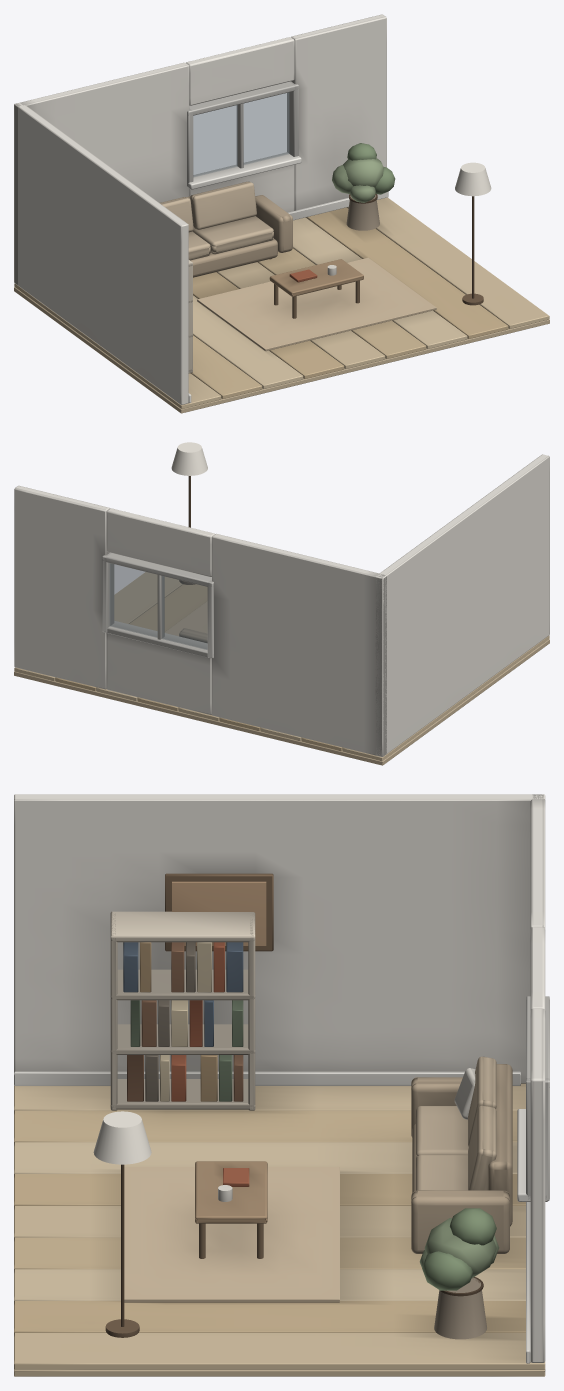
The model's file is room.glb.
3 views of the same model, one above another, from view 1: azimuth 30°, elevation 25°; view 2: azimuth 150°, elevation 25°; view 3: azimuth 270°, elevation 25° (orthographic). The views are drawn at different scales.
Visible parts, largest first — view 1: wl, wb_r, wb_l, rug, board8, board7, glass, wb_t, board2, board6, slab, board4 (+21 smaller); view 2: wb_l, wl, wb_r, wb_b, glass, wb_t, slab, board8, board7, wf_b, wf_t, lamp_shade (+5 smaller); view 3: wl, rug, board8, board7, board1, board2, board6, board0, board5, board4, board3, wb_r (+39 smaller).
Part boxes in pixels (x1,y1,x2,y2): wl: (14, 102, 188, 404); wb_r: (291, 14, 386, 210); wb_l: (14, 62, 189, 284); rug: (197, 257, 436, 351); board8: (347, 197, 549, 328); board7: (306, 207, 508, 338); glass: (193, 92, 289, 177); wb_t: (186, 37, 294, 105); board2: (193, 295, 303, 388); board6: (293, 217, 467, 348); slab: (14, 287, 549, 413); board4: (216, 262, 385, 368); wb_l: (212, 533, 386, 756); wl: (375, 454, 549, 756); wb_r: (14, 485, 109, 689); wb_b: (106, 633, 211, 714); glass: (109, 563, 207, 649); wb_t: (106, 508, 214, 576); slab: (14, 639, 549, 765); board8: (14, 572, 182, 680); board7: (55, 584, 207, 690); wf_b: (103, 621, 213, 658); wf_t: (102, 553, 213, 586); lamp_shade: (171, 442, 207, 475); wl: (14, 794, 545, 1083); rug: (124, 1167, 339, 1302); board8: (14, 1333, 545, 1369); board7: (14, 1301, 525, 1333); board1: (14, 1110, 517, 1142); board2: (14, 1142, 517, 1174); board6: (14, 1269, 525, 1301); board0: (14, 1083, 525, 1110); board5: (14, 1237, 525, 1269); board4: (14, 1206, 525, 1237); board3: (14, 1174, 525, 1206); wb_r: (530, 1009, 545, 1362).
Bounding box in the file's own units: 0.56 × 0.272 × 0.444.
